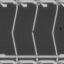dust: (58, 25, 62, 31)
